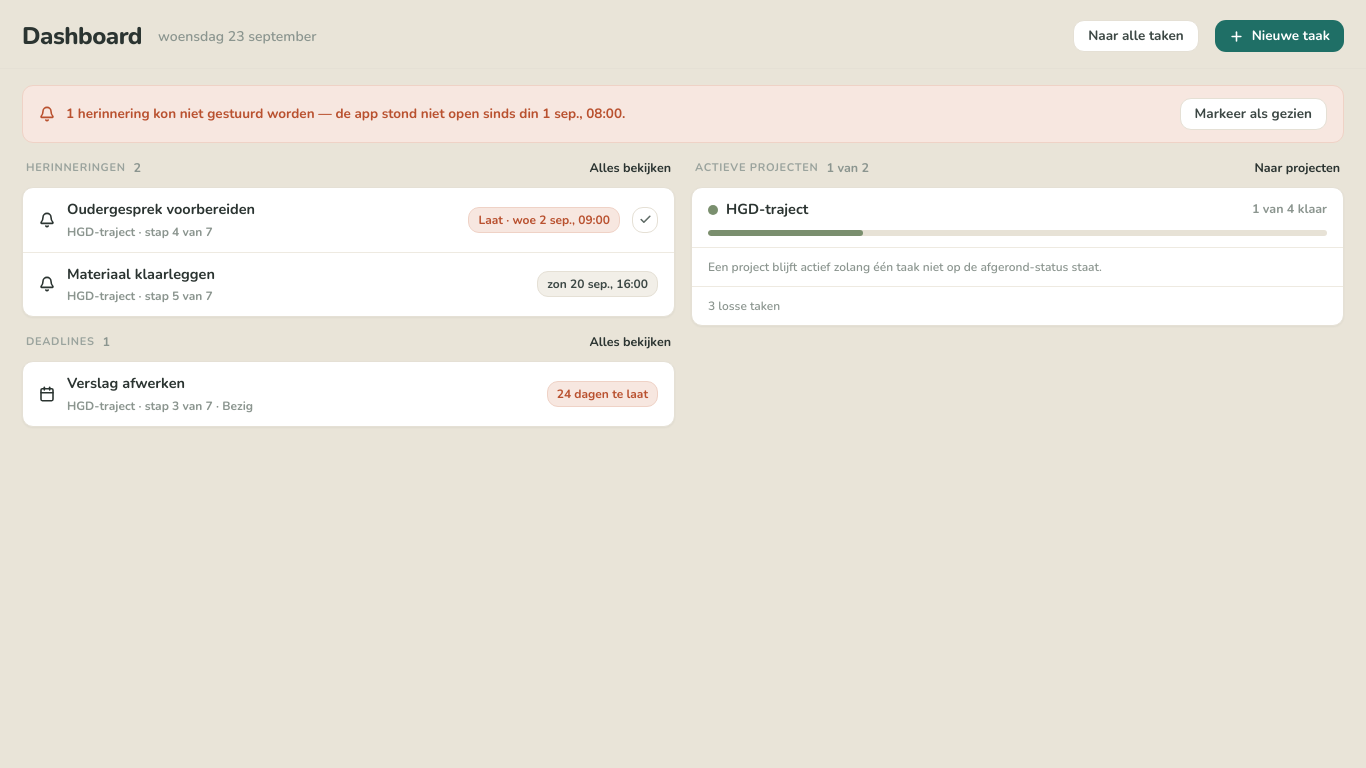
Dashboard › een taakrij klikken opent het detailpaneel ter plaatse (niet Taken)
Click the text "Oudergesprek voorbereiden" at (161, 209), box left=67, top=199, right=255, bottom=219
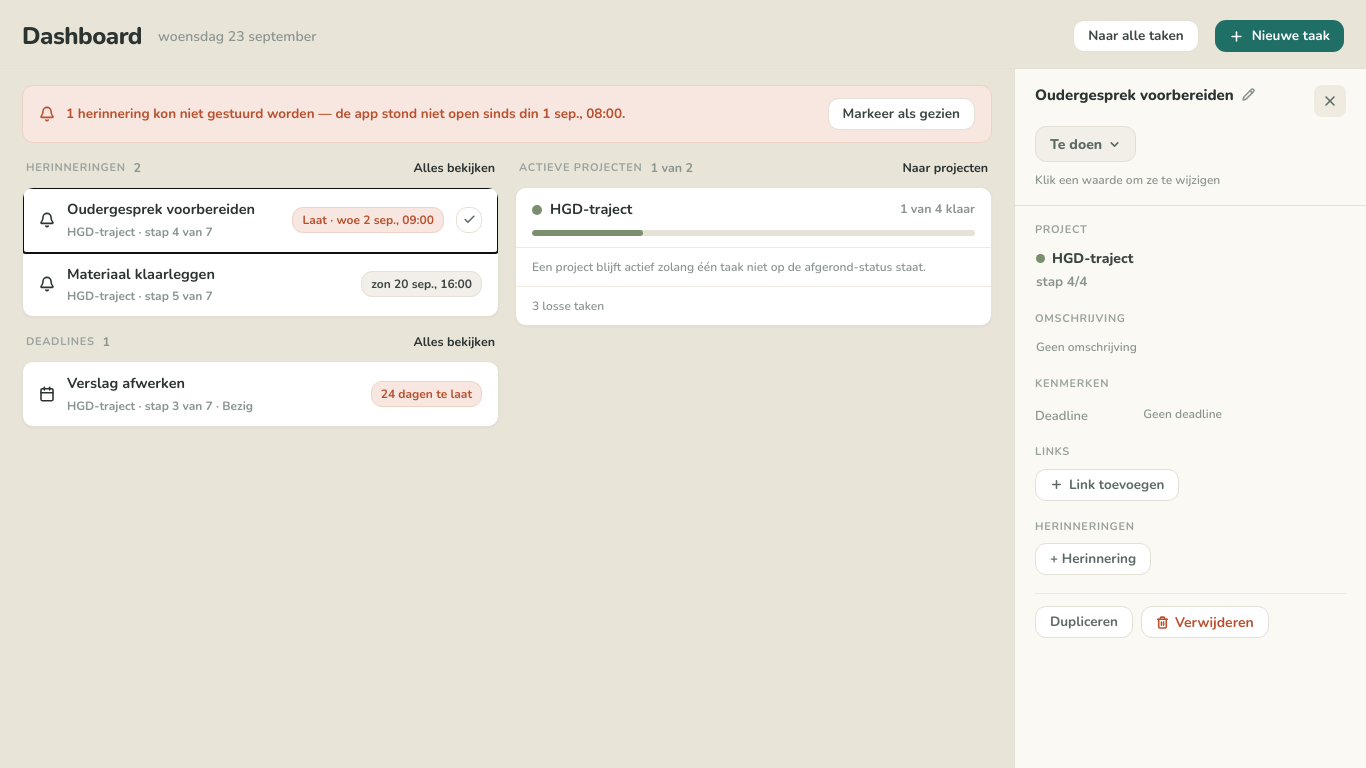
Expected: the text "Deadlines" is shown, left=26, top=334, right=95, bottom=351
Expected: the button named "Paneel sluiten" is shown, left=1314, top=85, right=1346, bottom=117
Expected: the text "Klik een waarde om ze te wijzigen" is shown, left=1035, top=172, right=1220, bottom=188
